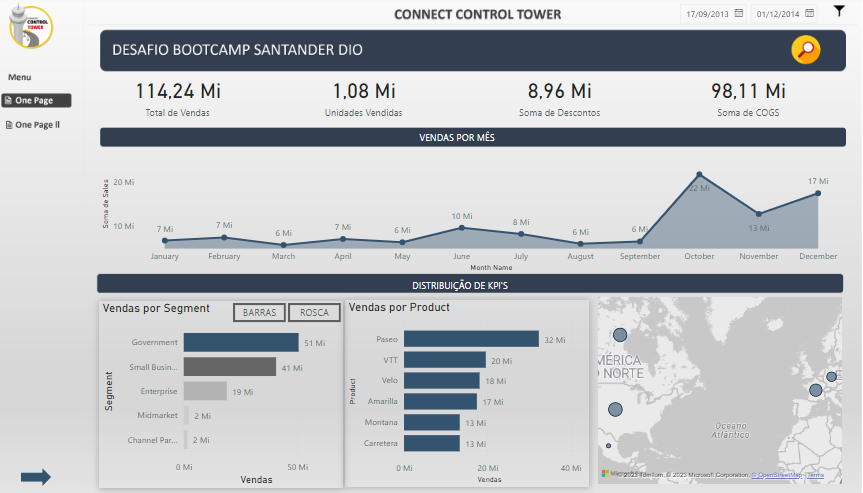

The dashboard page shown, as its layout file describes it:
{"tool":"powerbi","page":{"name":"ONE PAGE 1","canvas":[1280,720],"ordinal":0},"visuals":[{"type":"image","box":[0,0,1280,720],"z":0},{"type":"clusteredBarChart","fields":{"Category":["financials.Segment"],"Y":["Sum(financials. Sales)"]},"box":[165.1,437.6,351.4,270],"z":1000,"group":"g1"},{"type":"card","fields":{"Values":["Sum(financials. Sales)"]},"box":[175,95,206.2,93.8],"z":1000},{"type":"actionButton","title":"Botão BARRAS","box":[437.4,440,76.2,27.5],"z":2000,"group":"g1"},{"type":"card","fields":{"Values":["Sum(financials.Units Sold)"]},"box":[443.8,95,206.2,93.8],"z":2000},{"type":"actionButton","title":"Botão ROSCA","box":[357.5,440,76.2,27.5],"z":3000,"group":"g1"},{"type":"card","fields":{"Values":["Sum(financials.Discounts)"]},"box":[726.2,95,206.2,93.8],"z":3000},{"type":"card","fields":{"Values":["Sum(financials.COGS)"]},"box":[962.5,95,277.5,93.8],"z":4000},{"type":"areaChart","fields":{"Category":["financials.Month Name"],"Y":["Sum(financials. Sales)"]},"box":[163.8,220,1076.2,180],"z":5000},{"type":"clusteredBarChart","fields":{"Category":["financials.Product"],"Y":["Sum(financials. Sales)"]},"box":[520,436.2,351.2,268.8],"z":6000},{"type":"map","fields":{"Category":["financials.Country"],"Size":["Sum(financials. Sales)"]},"box":[880,427.5,360,277.5],"z":7000},{"type":"textbox","box":[515,188.8,331.2,31.2],"z":8000},{"type":"textbox","box":[520,401.2,331.2,31.2],"z":9000},{"type":"slicer","fields":{"Values":["financials.Date"]},"box":[988.8,0,223.8,46.2],"z":10000},{"type":"shape","box":[53.8,678.8,43.8,26.2],"z":11000},{"type":"group","id":"g1","title":"TESTE","box":[163.7,436.2,352.9,271.4],"z":12000}]}

Visuals, with their boxes on the page's 1280x720 design canvas (x1, y1, x2, y2). These are canvas units, not pixel positions in the 863x493 screenshot, which may show the page scaled, cropped or inside an application window:
image: rect(0, 0, 1280, 720)
clusteredBarChart - financials.Segment x Sum(financials. Sales): rect(165, 438, 516, 708)
card - Sum(financials. Sales): rect(175, 95, 381, 189)
"Botão BARRAS" actionButton: rect(437, 440, 514, 468)
card - Sum(financials.Units Sold): rect(444, 95, 650, 189)
"Botão ROSCA" actionButton: rect(358, 440, 434, 468)
card - Sum(financials.Discounts): rect(726, 95, 932, 189)
card - Sum(financials.COGS): rect(962, 95, 1240, 189)
areaChart - financials.Month Name x Sum(financials. Sales): rect(164, 220, 1240, 400)
clusteredBarChart - financials.Product x Sum(financials. Sales): rect(520, 436, 871, 705)
map - financials.Country x Sum(financials. Sales): rect(880, 428, 1240, 705)
textbox: rect(515, 189, 846, 220)
textbox: rect(520, 401, 851, 432)
slicer - financials.Date: rect(989, 0, 1213, 46)
shape: rect(54, 679, 98, 705)
"TESTE" group: rect(164, 436, 517, 708)
